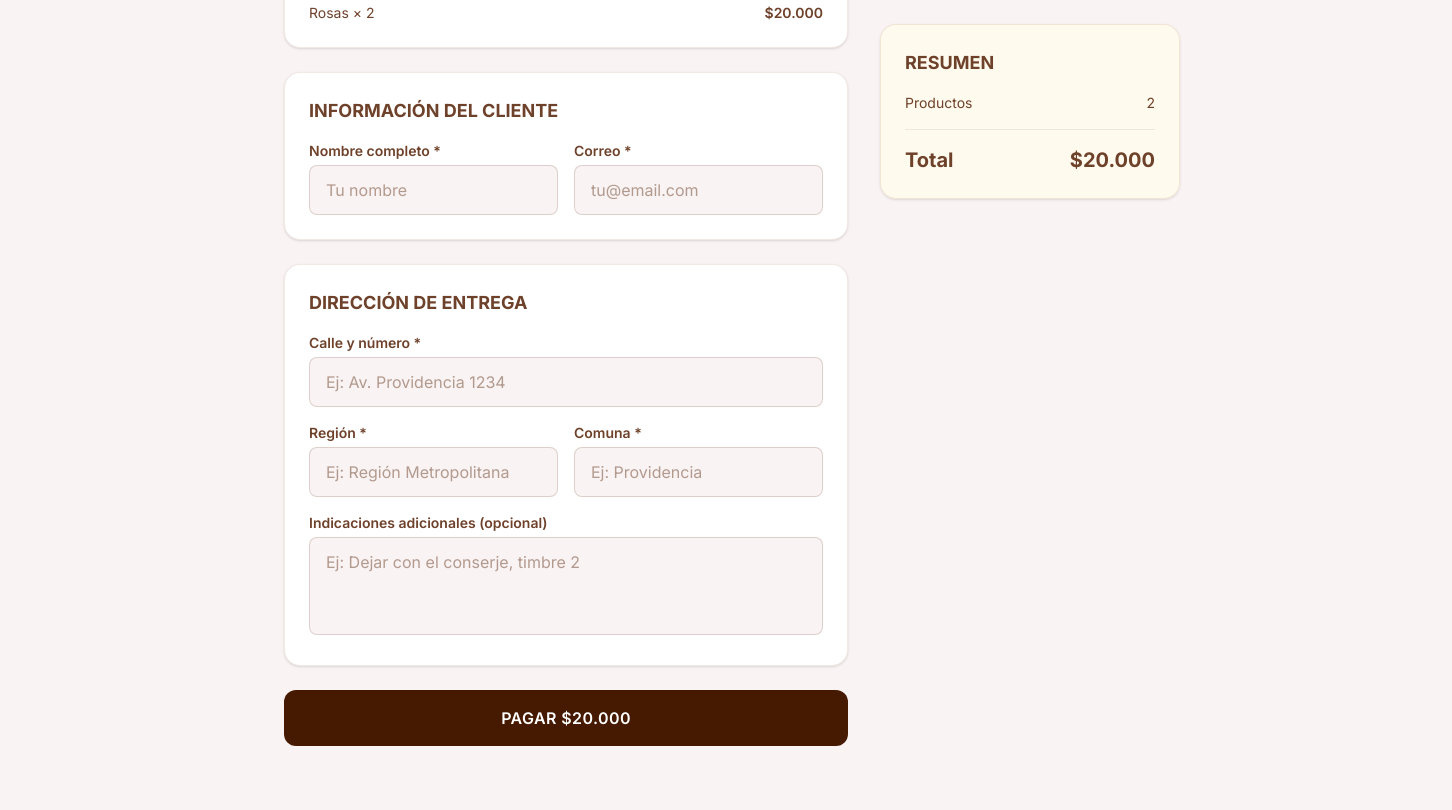
Test case: Checkout › formulario vacío: muestra los 5 errores y no navega
The image size is (1452, 810).
(page scrolled)
Click the button "PAGAR $20.000" at (566, 718), box [284,690,848,746]
(page scrolled)
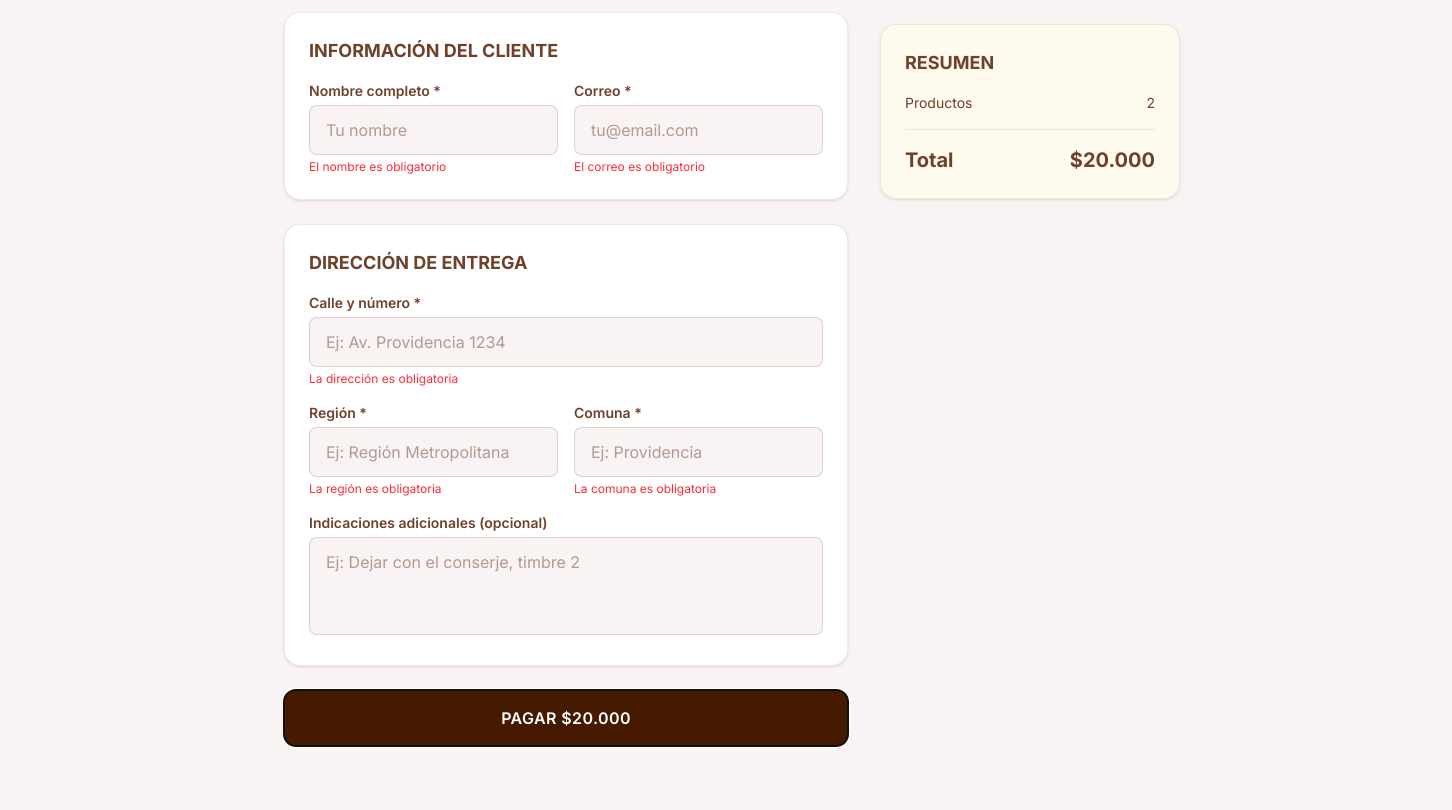
Expected: the text "El nombre es obligatorio" is shown, [309,159,446,174]
Expected: the text "El correo es obligatorio" is shown, [574,159,705,174]
Expected: the text "La dirección es obligatoria" is shown, [309,371,458,386]
